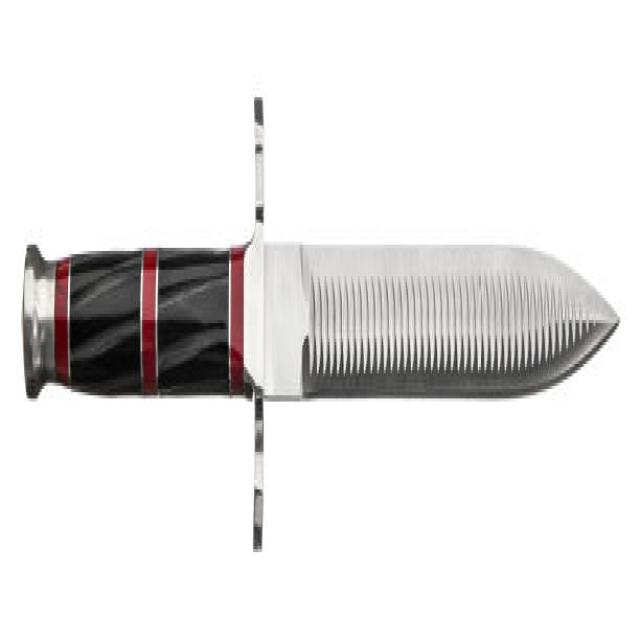knife: (18, 80, 624, 559)
